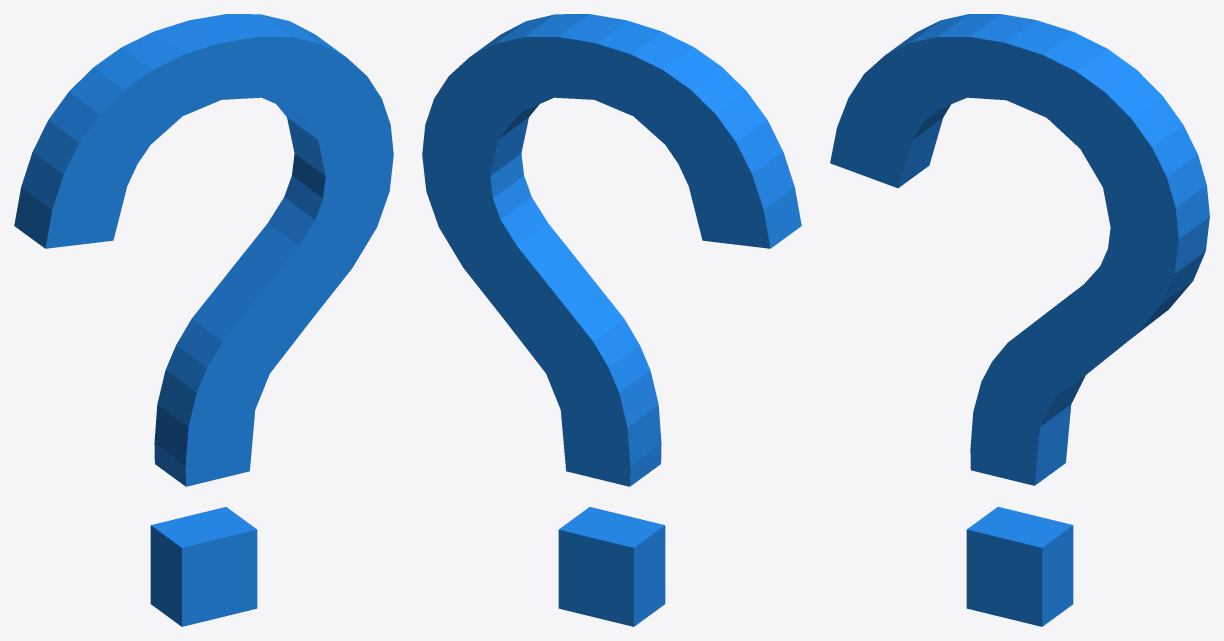
The model's file is Proto_3D_Text_Question_01.fbx.
3 views of the same model, side by side, from view 1: azimuth 30°, elevation 25°; view 2: azimuth 150°, elevation 25°; view 3: azimuth 330°, elevation 25° (orthographic).
Visible parts, largest first — view 1: Proto_3D_Text_Question_01; view 2: Proto_3D_Text_Question_01; view 3: Proto_3D_Text_Question_01.
Boxes of the visible parts, x1,y1,x2,y2 form: Proto_3D_Text_Question_01: (14,14,393,626); Proto_3D_Text_Question_01: (422,14,801,626); Proto_3D_Text_Question_01: (830,14,1209,626).
Bounding box in the file's own units: 0.1612 × 0.254 × 0.025.
